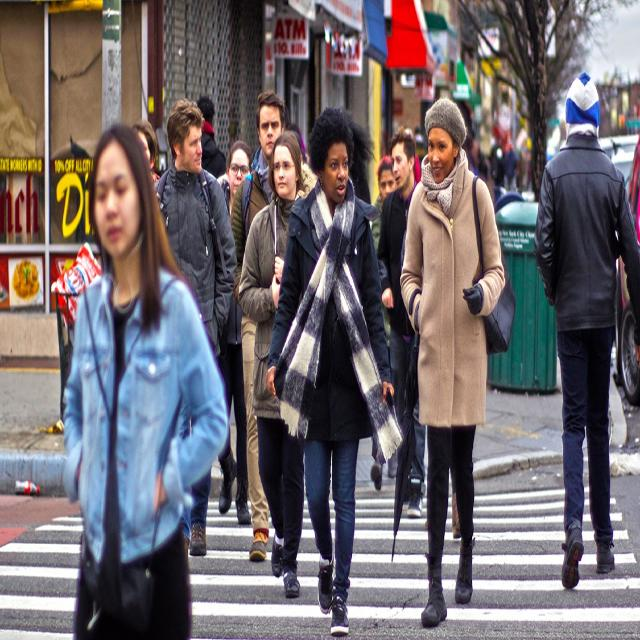body: (59, 112, 232, 639), (264, 101, 406, 639), (397, 93, 518, 631), (532, 65, 639, 594), (152, 98, 239, 559), (230, 89, 306, 563), (237, 128, 306, 598), (374, 124, 428, 521), (216, 140, 253, 528), (404, 93, 530, 205), (369, 154, 399, 494), (123, 114, 161, 190), (282, 121, 310, 167), (448, 465, 462, 544)
